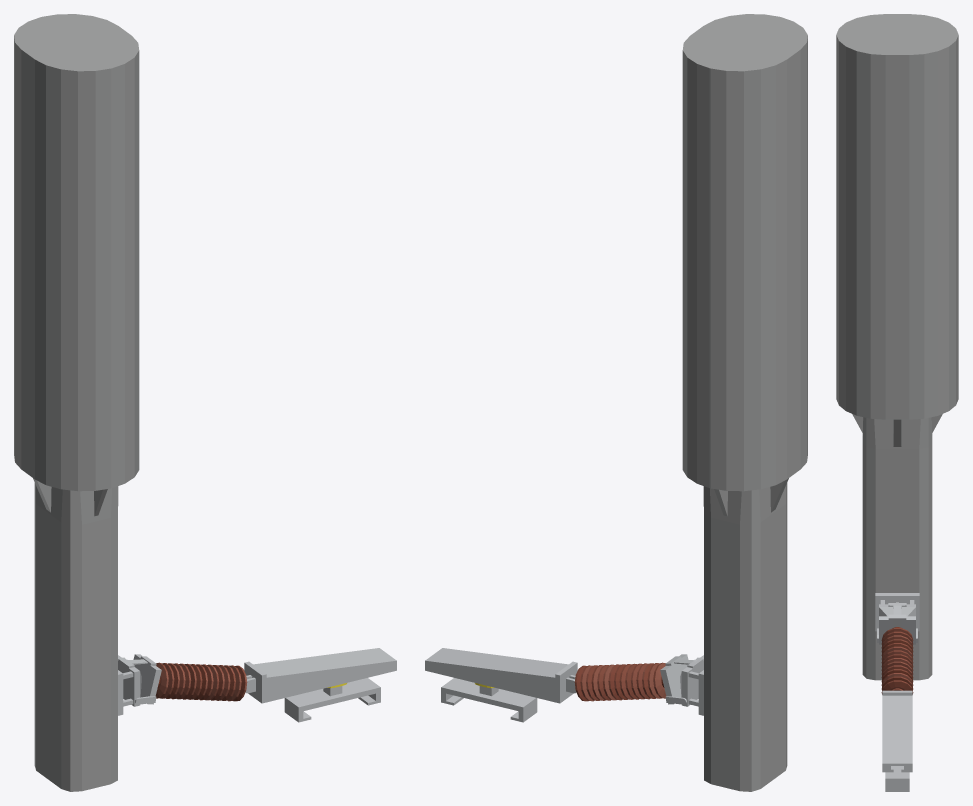
File: rcl2.obj
3 renders of one model, left to right at view 1: azimuth 30°, elevation 25°; view 2: azimuth 150°, elevation 25°; view 3: azimuth 270°, elevation 25°, orthographic. The views are drawn at different scales.
Parts seen in each view (by area): view 1: 1.001; view 2: 1.001; view 3: 1.001.
Boxes of the visible parts, left/top/right/bottom form: 1.001: left=14, top=14, right=396, bottom=791; 1.001: left=425, top=14, right=807, bottom=791; 1.001: left=836, top=14, right=958, bottom=791.
Bounding box in the file's own units: 0.9309 × 1.8 × 0.3146.
Materials: 1 (1 with a texture image).
